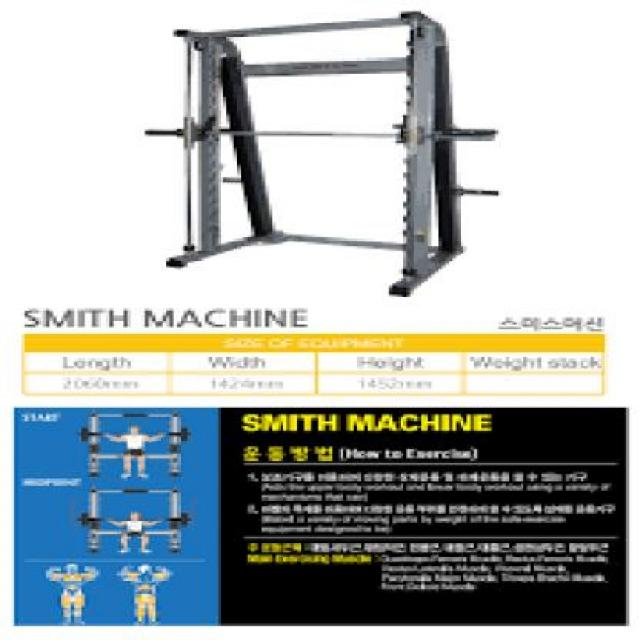smith machine: (145, 11, 500, 297)
